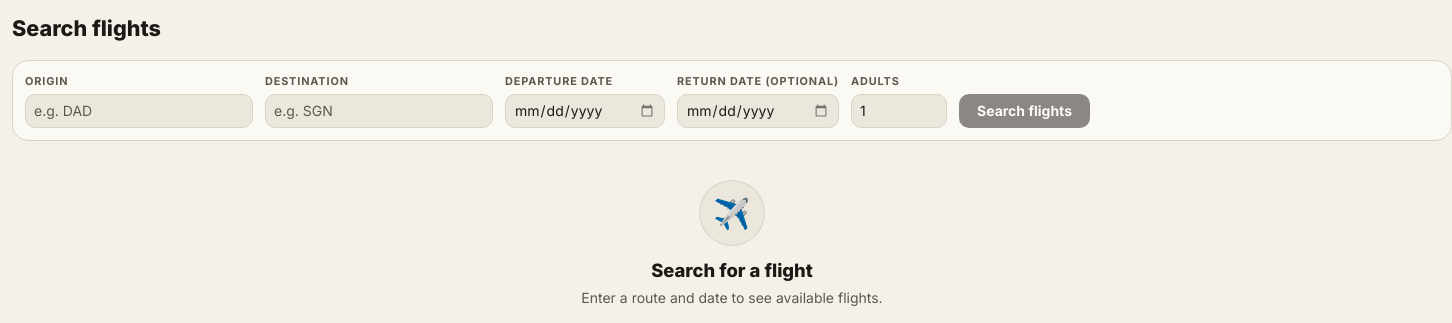
Scenario: FlightsPage › shows an error state when the search fails
The width and height of the screenshot is (1452, 323).
Type "dad" into the field labelled "Origin" at (139, 111), box [25,94,253,128]
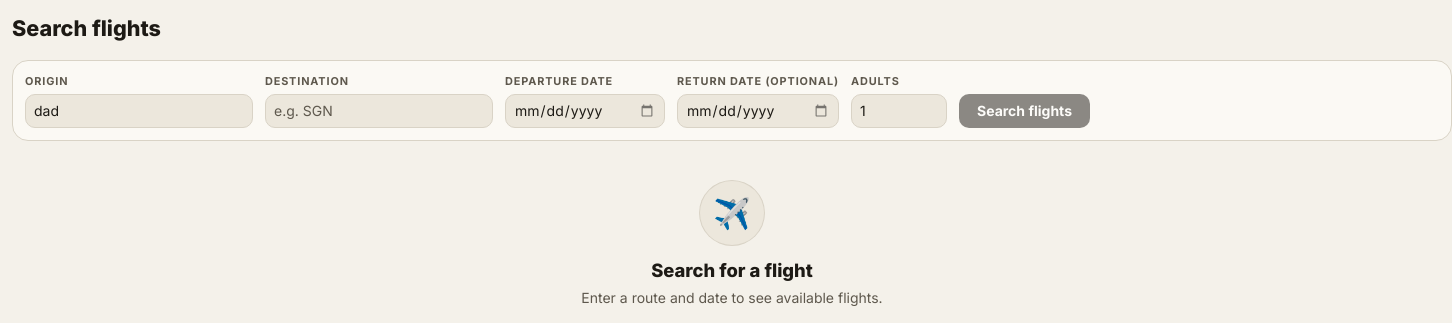
Type "sgn" into the field labelled "Destination" at (379, 111), box [265,94,493,128]
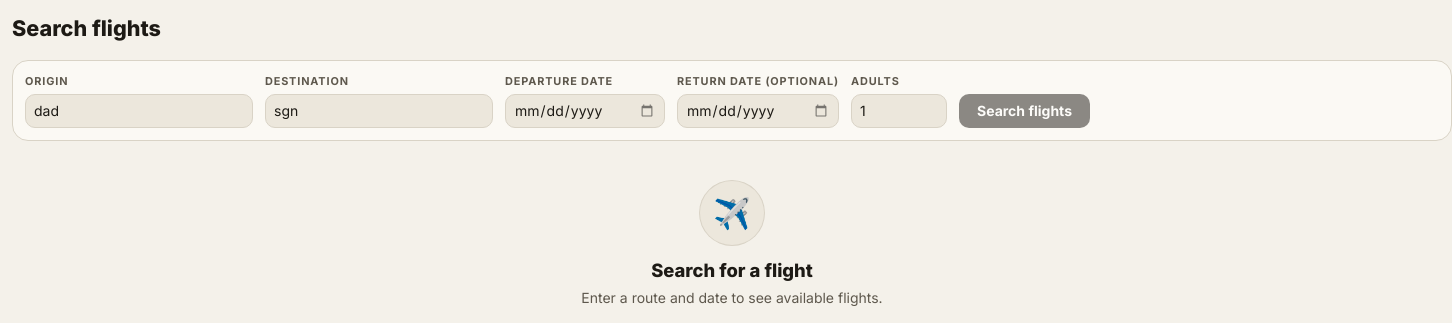
Type "2026-06-01" into the date field labelled "Departure date" at (585, 111), box [505,94,665,128]
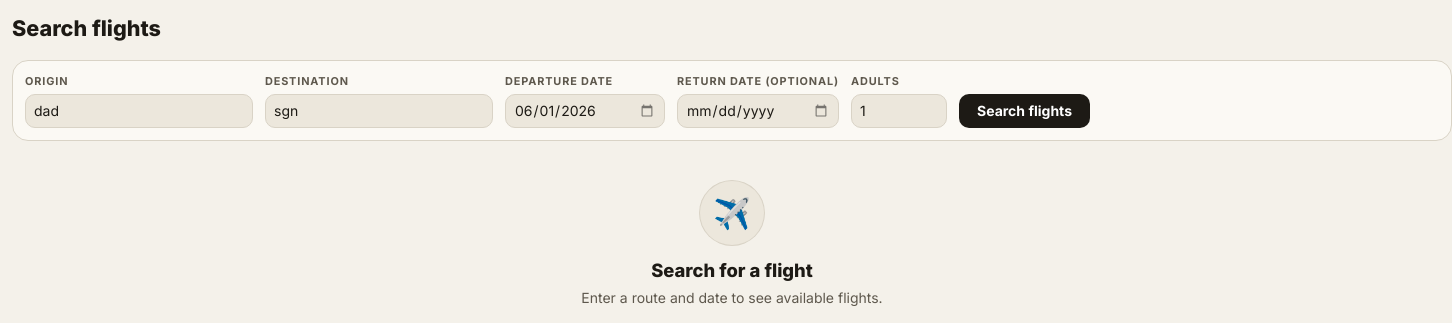
Click the button "Search flights" at (1024, 111), box [959,94,1090,128]
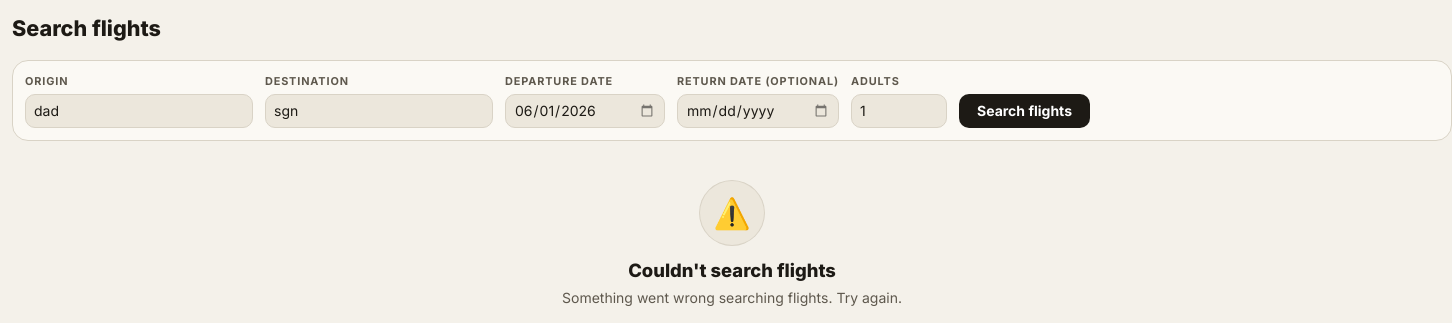
Now the text "Couldn't search flights" is shown, box [628,259,836,281]
